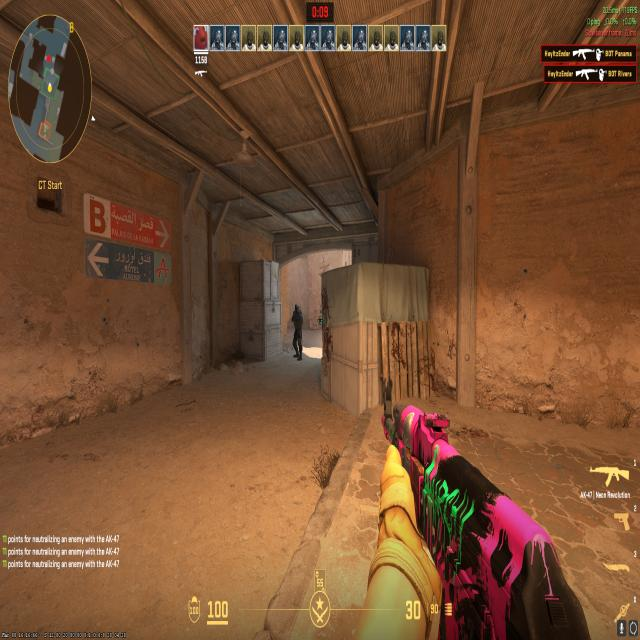ct: (286, 295, 308, 369)
